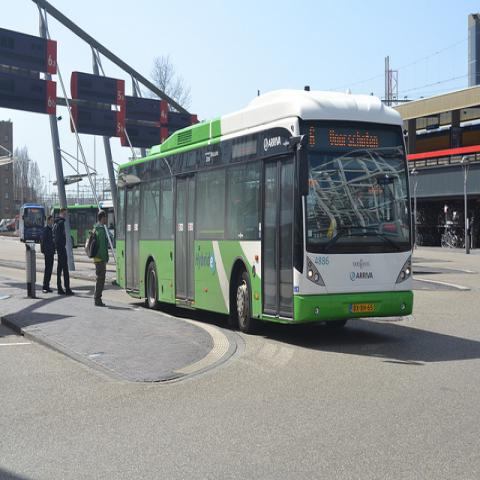bus: (114, 92, 414, 338), (53, 204, 98, 249), (19, 203, 46, 243)
